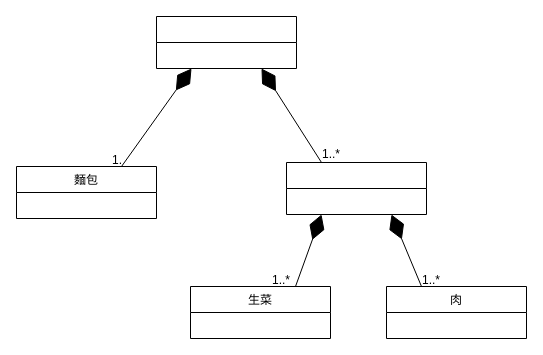
Some shapes in this 543 by 355 pixel diagram are drawn without their labels. Each missing label, with the centre of its shape:
"漢堡" goes at pixel 226 42.
"配料" goes at pixel 356 188.
